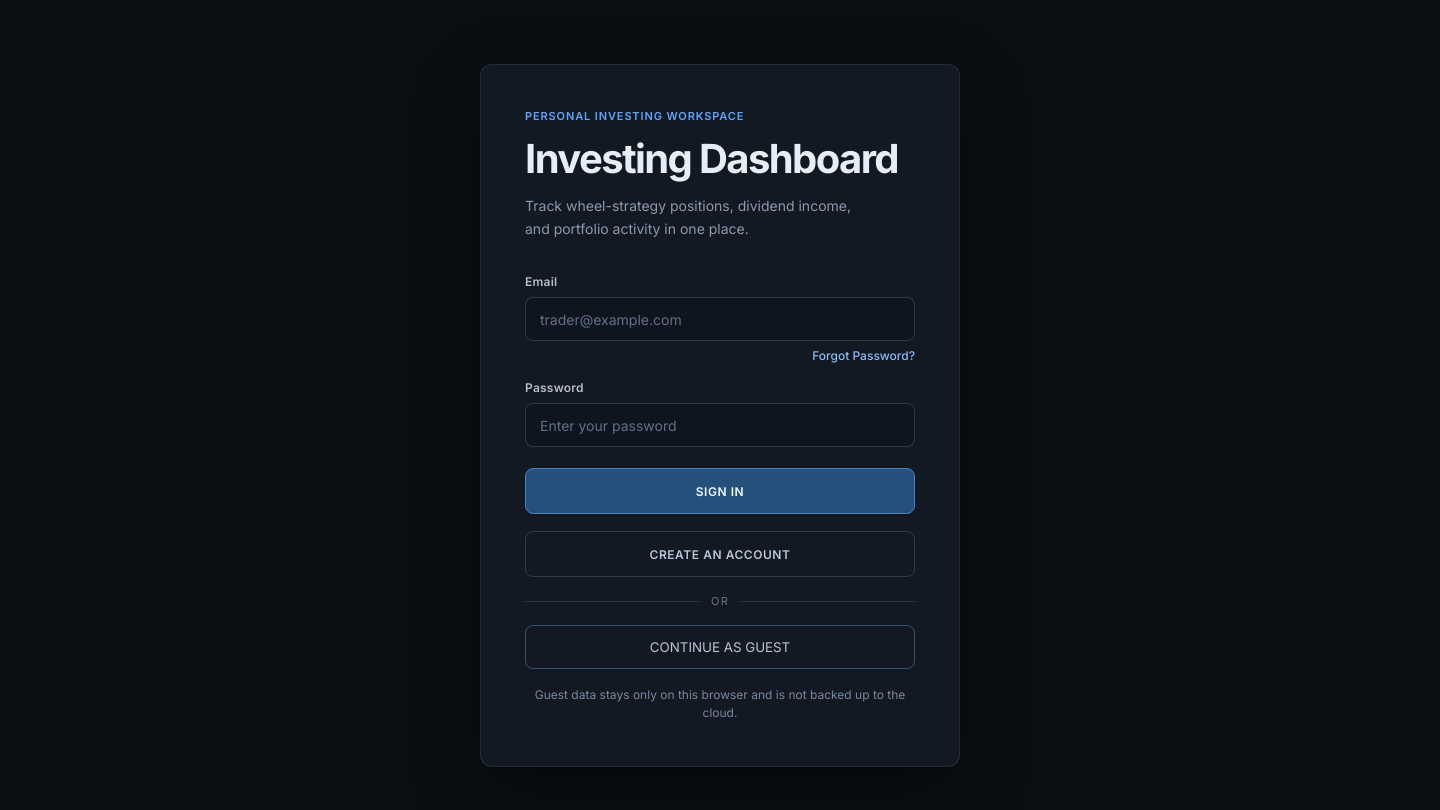
opens and closes the password-reset dialog
Click the button "Forgot Password?": (864, 356) [812,348,915,363]
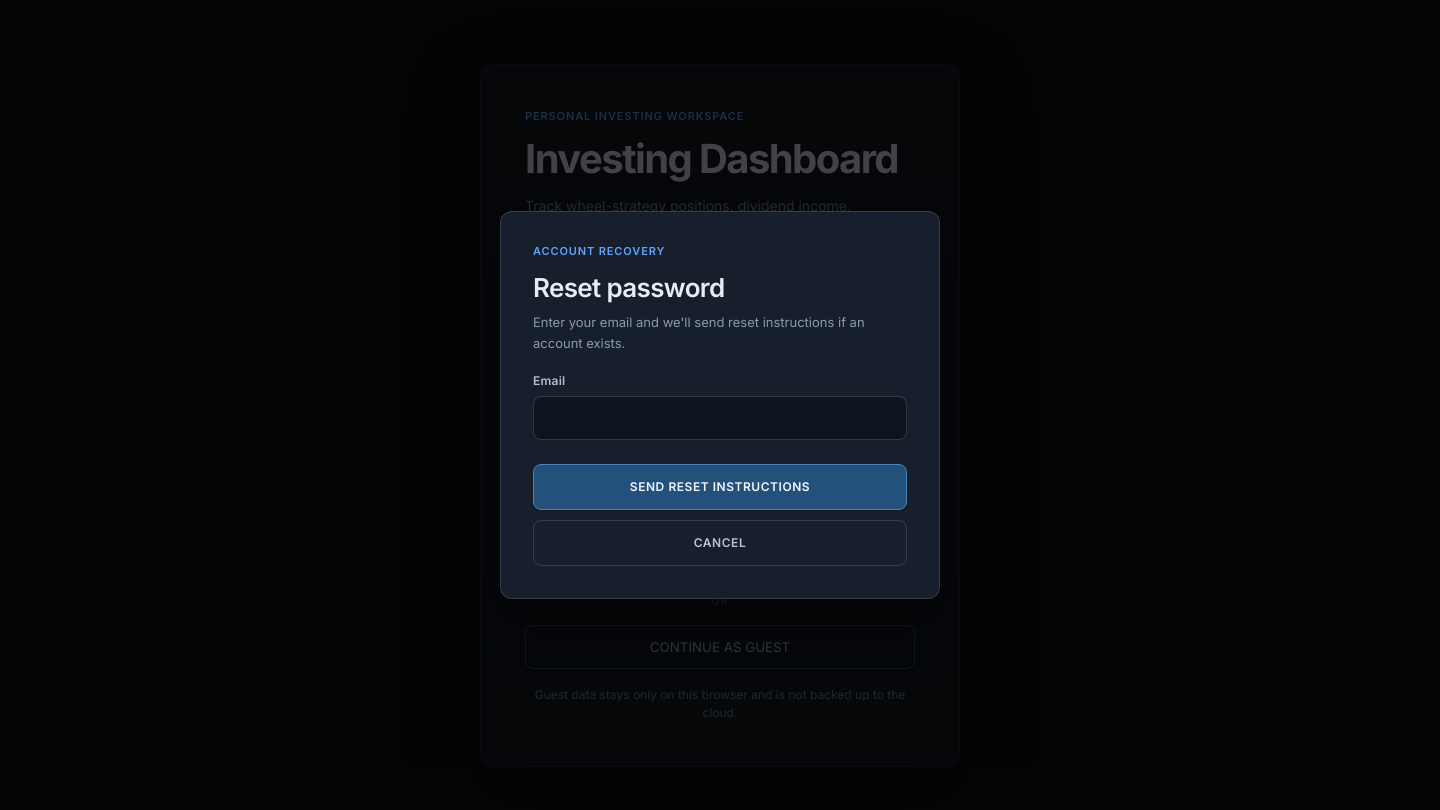
Check: the dialog "Reset password" is shown, box [500,211,940,599]
Click the button "CANCEL": (720, 543) [533,520,907,566]
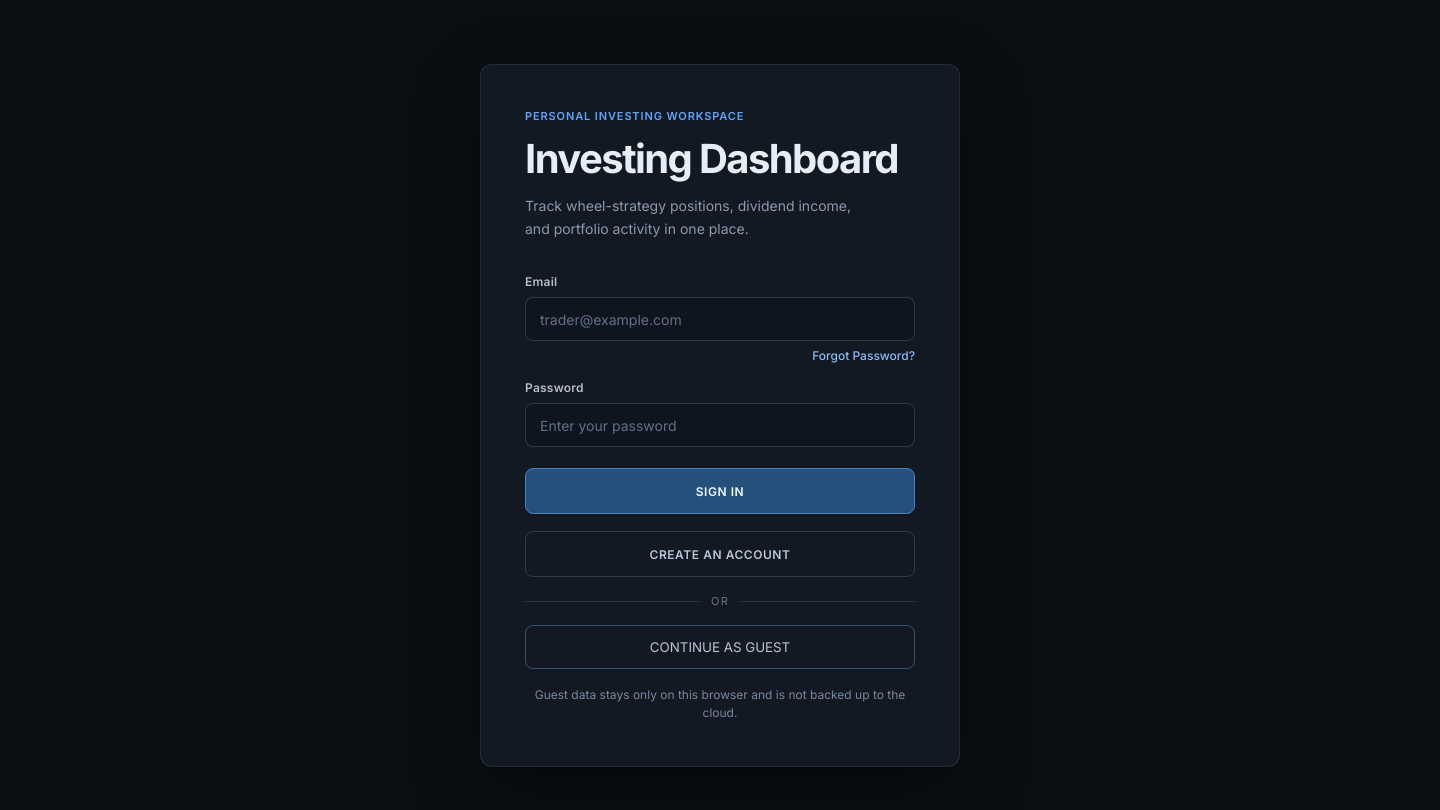
Check: the heading "Reset password" is gone
